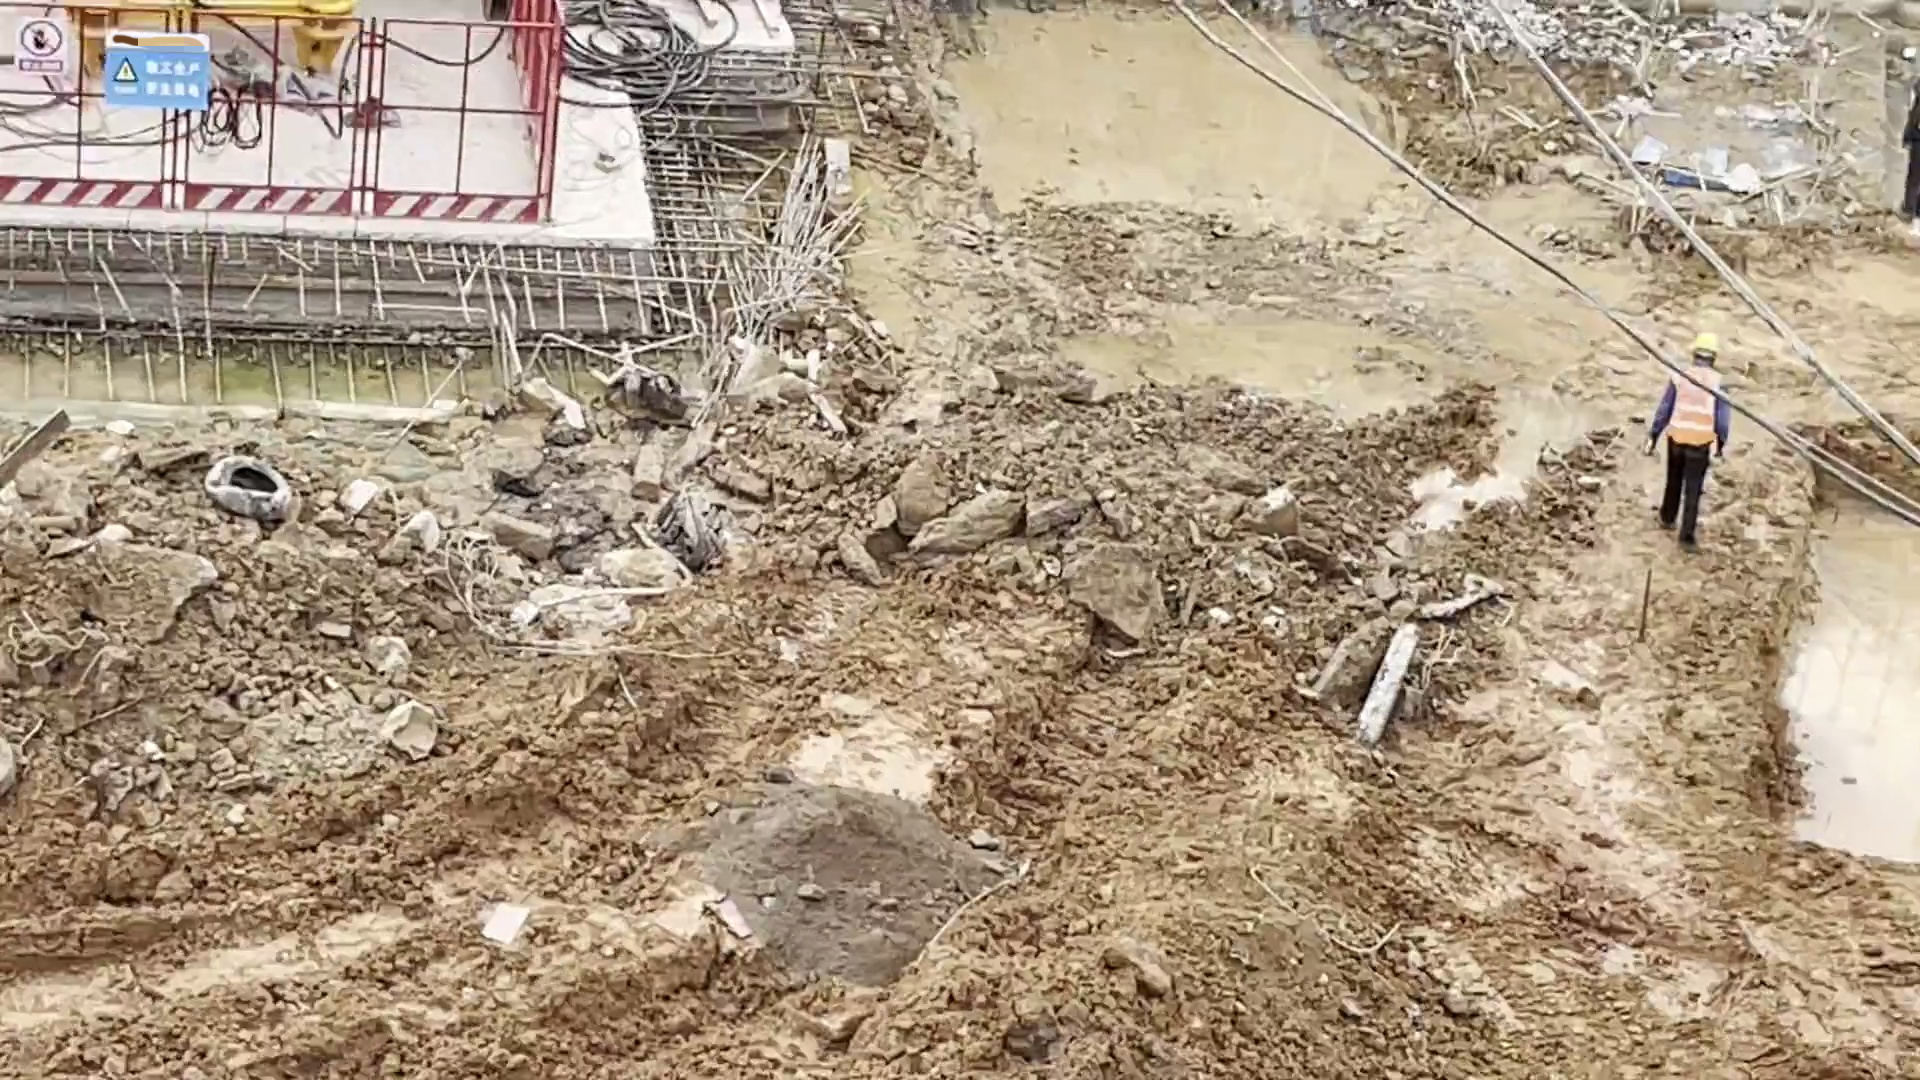fence: (3, 5, 562, 212)
helmet: (1694, 331, 1725, 363)
person: (1648, 332, 1726, 547)
slogan: (103, 27, 206, 107), (16, 19, 66, 70)
vest: (1671, 362, 1721, 454)
